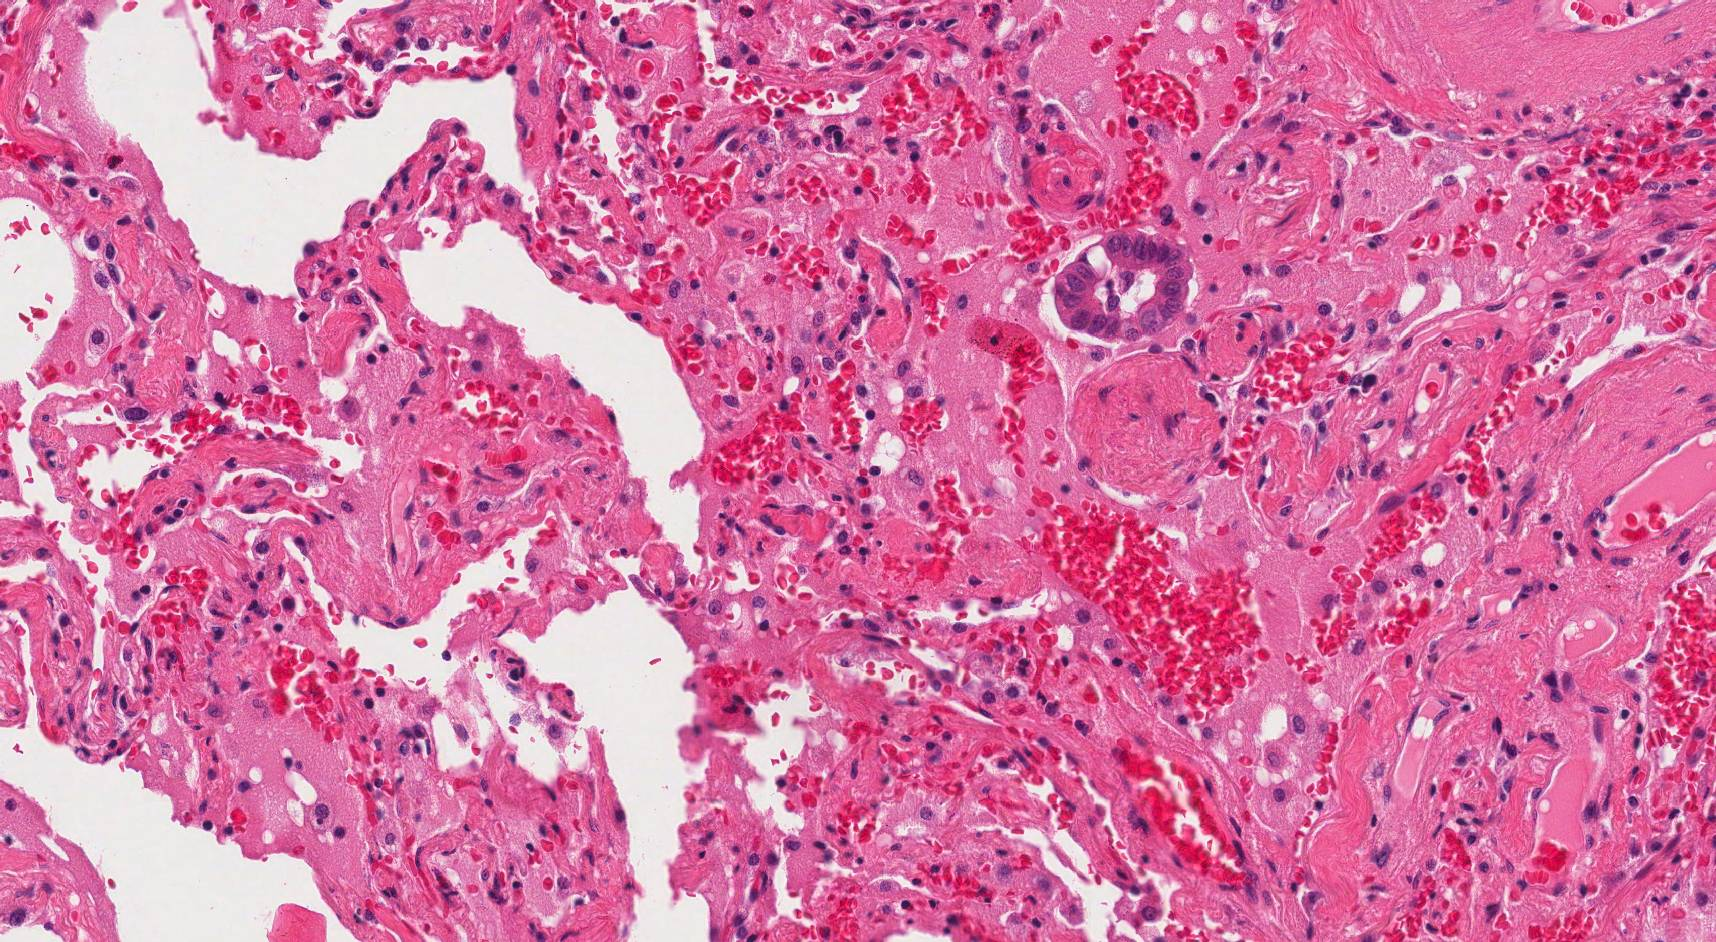stas: (1052, 228, 1190, 340)
